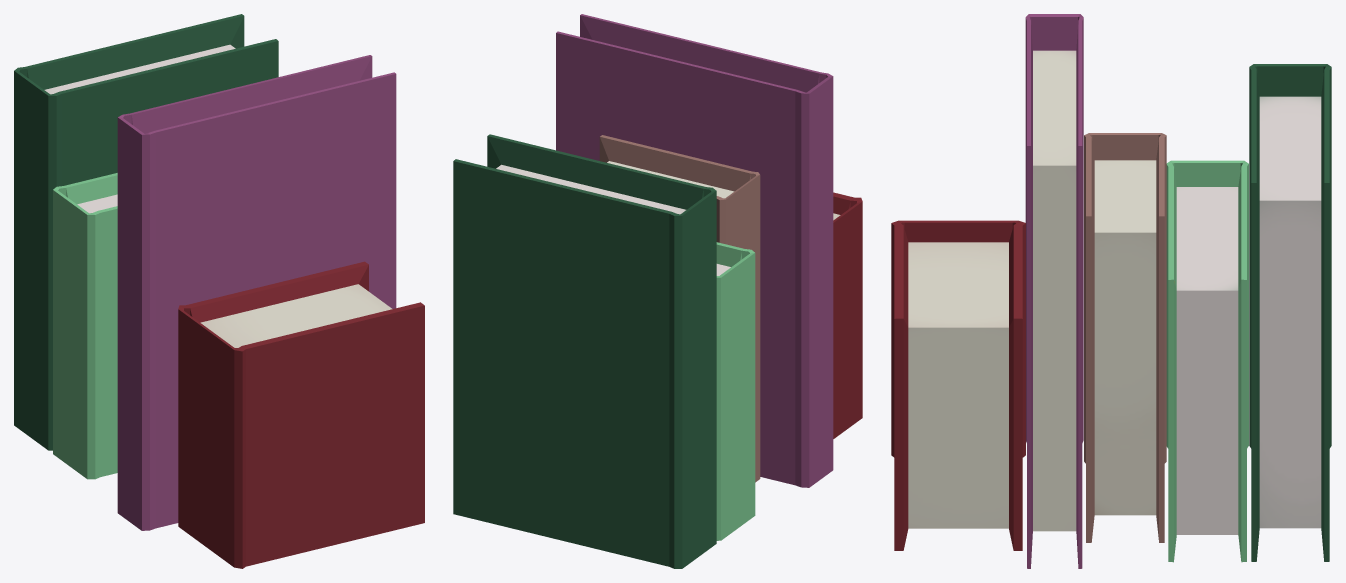
File: bookstack1.glb
3 renders of one model, left to right at view 1: azimuth 30°, elevation 25°; view 2: azimuth 150°, elevation 25°; view 3: azimuth 270°, elevation 25°, orthographic. The views are drawn at different scales.
Parts seen in each view (by area): view 1: Cube.006, Cube.007, Cube.003, Cube.004; view 2: Cube.003, Cube.006, Cube.004, Cube.005, Cube.007; view 3: Cube.007, Cube.003, Cube.005, Cube.004, Cube.006.
Boxes of the visible parts, box(x1,y1,x2,y2) form: Cube.006: box(117, 55, 396, 530); Cube.007: box(178, 261, 424, 568); Cube.003: box(14, 14, 278, 450); Cube.004: box(53, 173, 117, 479); Cube.003: box(453, 134, 716, 568); Cube.006: box(556, 14, 833, 487); Cube.004: box(716, 242, 755, 540); Cube.005: box(599, 135, 760, 482); Cube.007: box(833, 192, 862, 438); Cube.007: box(891, 220, 1025, 550); Cube.003: box(1249, 64, 1331, 561); Cube.005: box(1084, 133, 1166, 542); Cube.004: box(1166, 160, 1248, 562); Cube.006: box(1025, 14, 1083, 568).
Size of the model in its own units: 1.1 by 1.65 by 1.56.
Materials: 4 (4 with a texture image).
